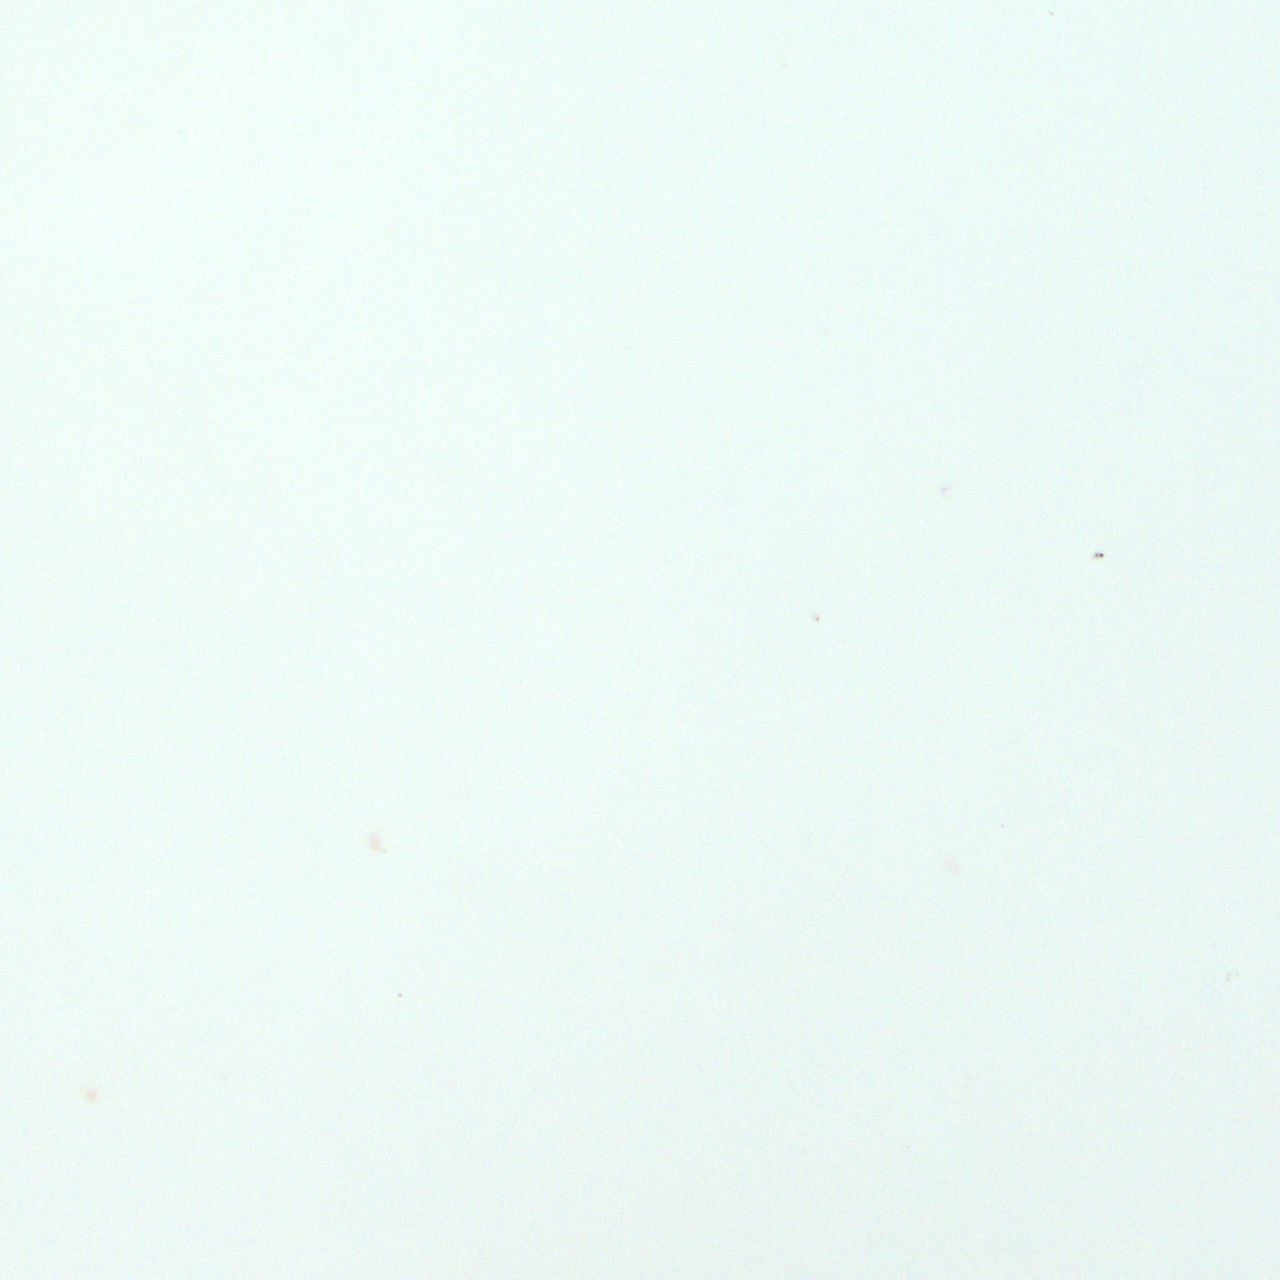dust: (812, 613, 819, 624), (1096, 551, 1106, 558), (397, 991, 402, 998)
